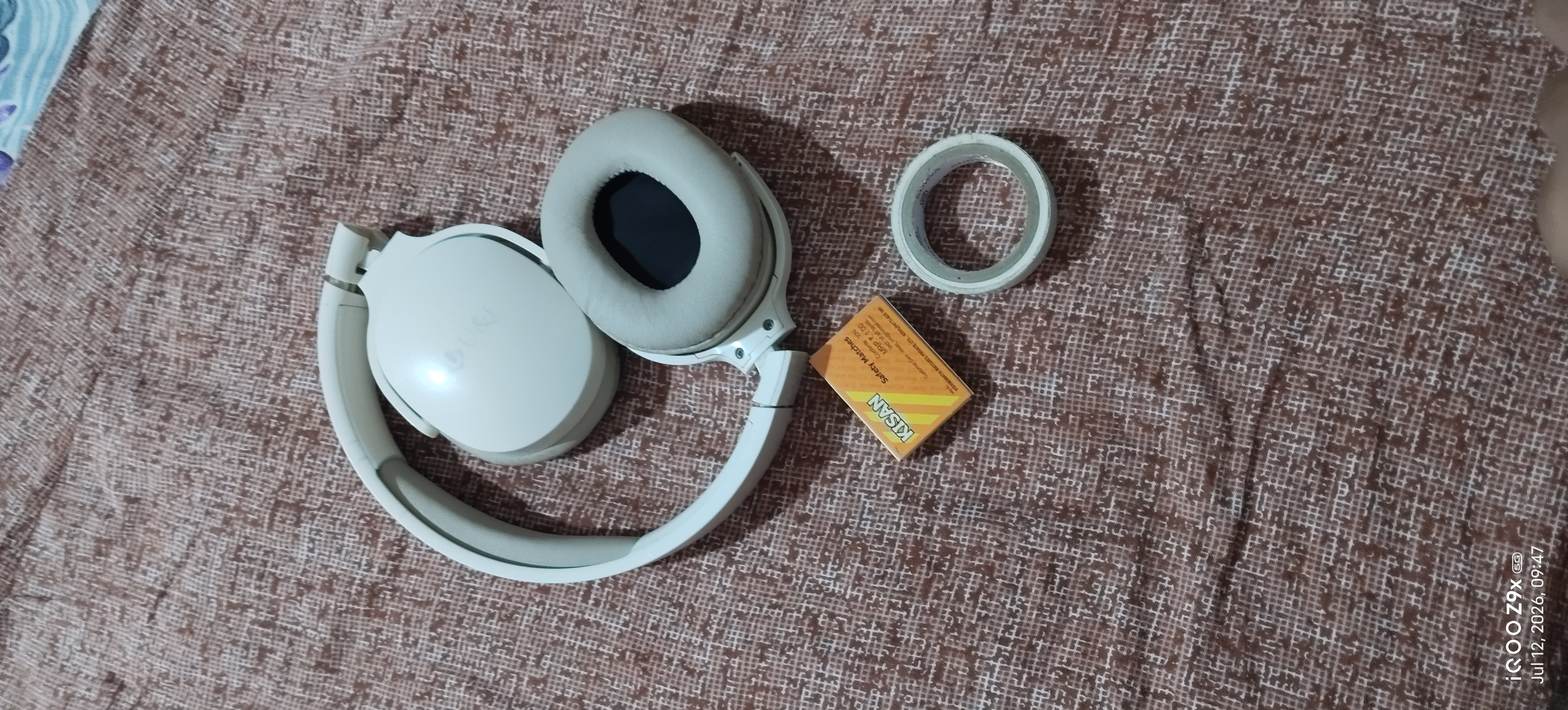matchbox: (803, 277, 988, 485)
tape_roll: (881, 121, 1099, 303)
